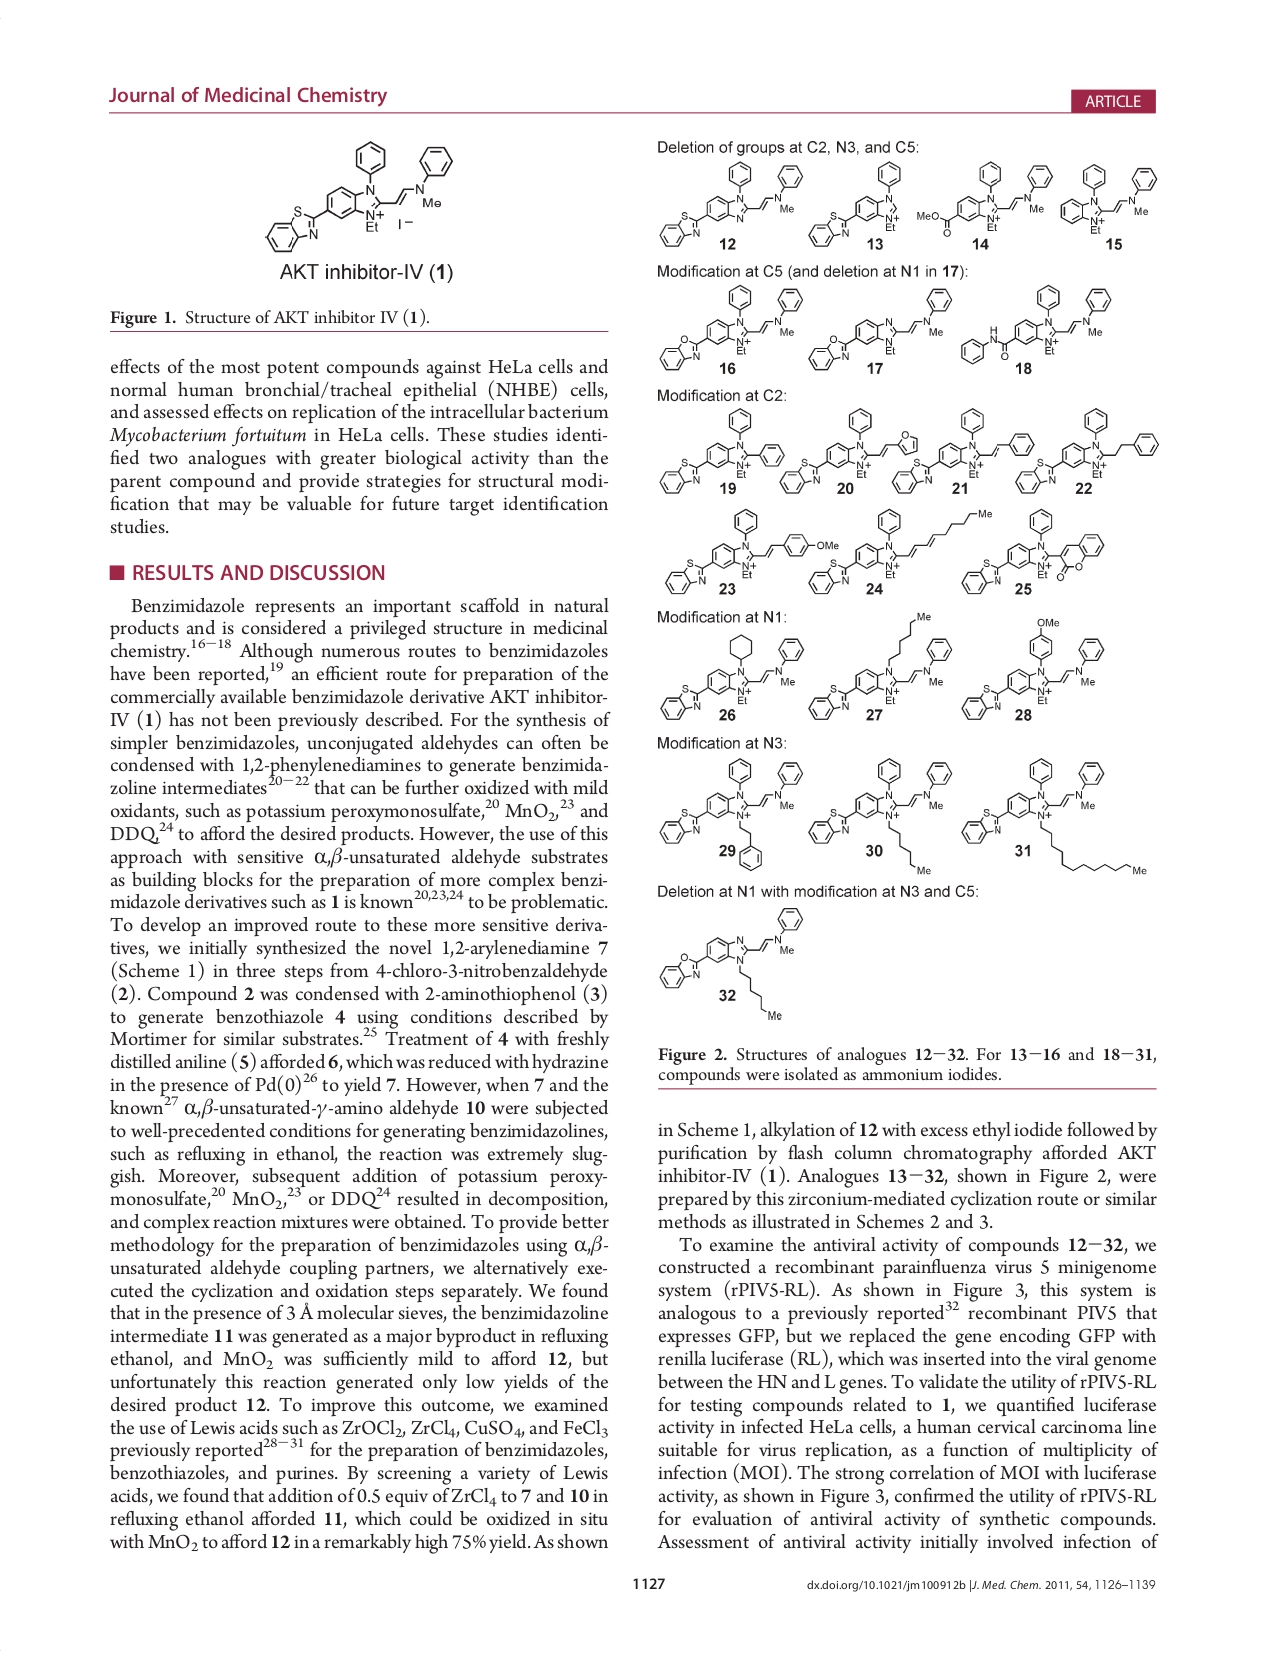exist_molecular: (959, 755, 1149, 876), (263, 140, 456, 257), (809, 753, 953, 876), (656, 903, 805, 1023), (657, 755, 805, 871), (806, 505, 993, 596), (807, 610, 953, 721), (664, 507, 840, 596), (960, 616, 1105, 722), (658, 633, 805, 722), (657, 283, 805, 371), (961, 507, 1105, 596), (658, 160, 803, 247), (807, 286, 953, 372), (1015, 407, 1161, 493), (891, 407, 1035, 495), (960, 283, 1114, 364), (779, 407, 920, 495), (657, 406, 786, 495), (915, 160, 1055, 238), (809, 160, 904, 249), (1059, 160, 1160, 235)
